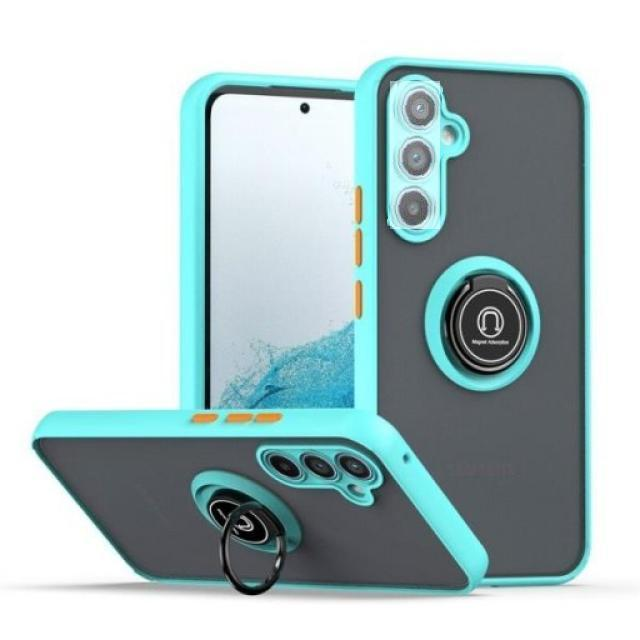phone: (366, 51, 594, 596), (30, 404, 485, 616), (182, 68, 364, 416)
